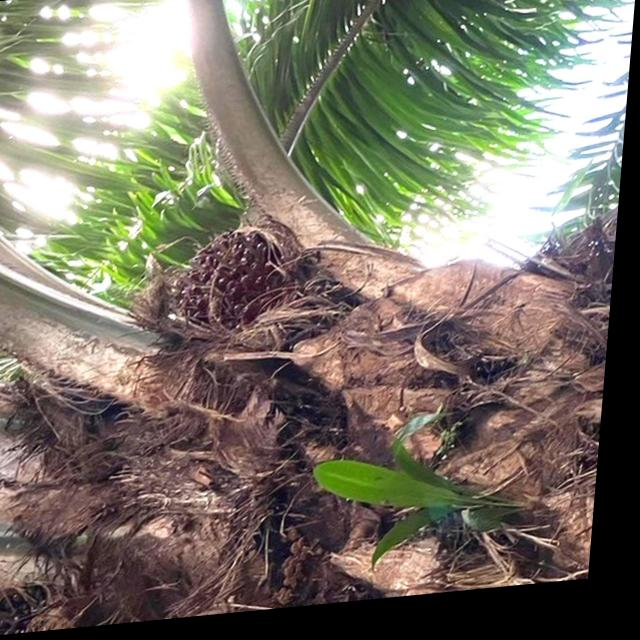ripe: (166, 208, 323, 358)
